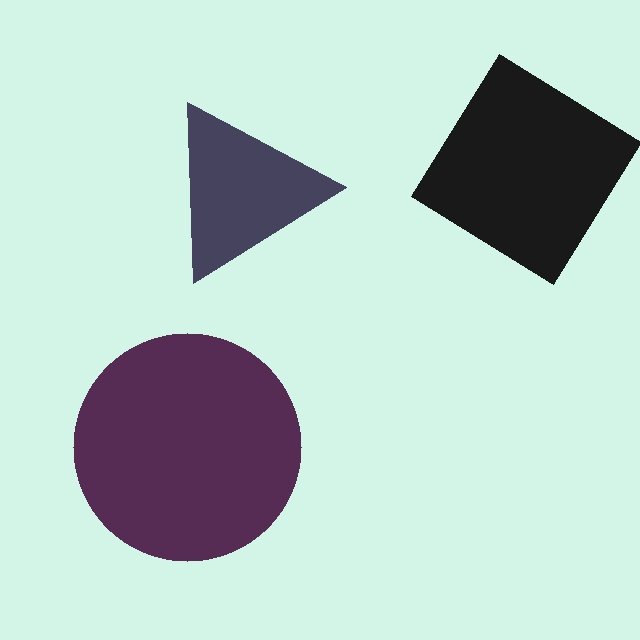circle: (72, 333, 301, 562)
square: (410, 53, 639, 284)
triangle: (186, 101, 346, 283)
